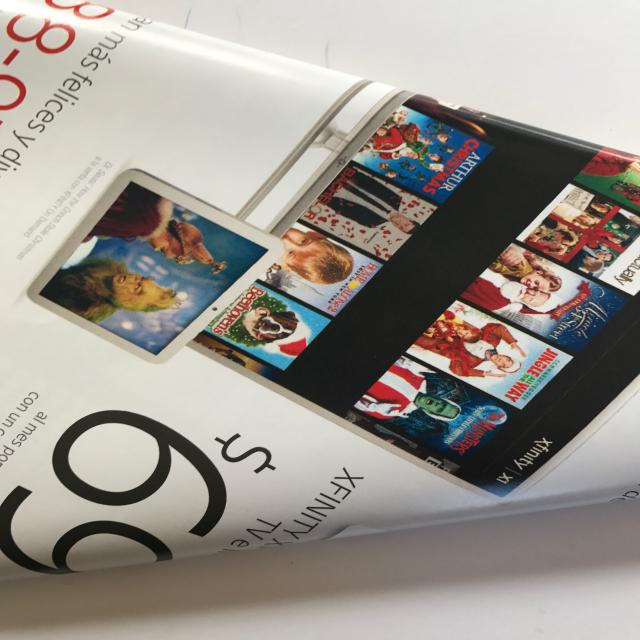paper: (1, 0, 639, 581)
